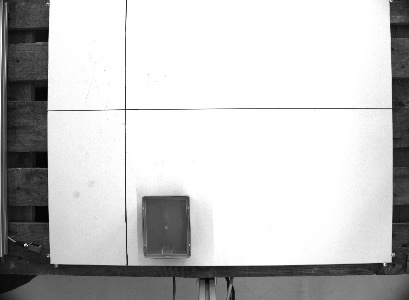klts: (139, 192, 193, 261)
